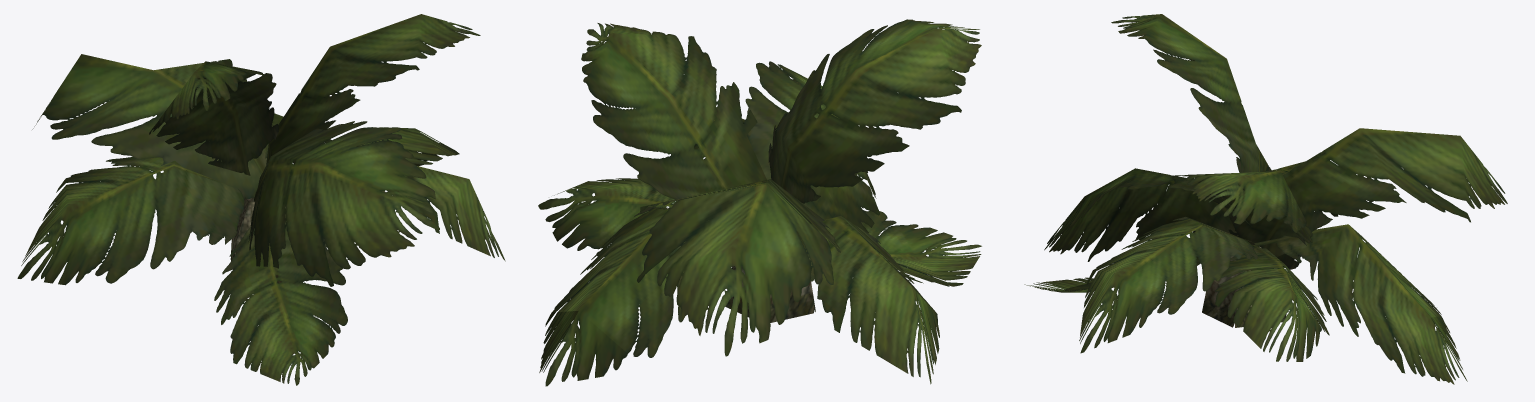
Rendered from 极光世界__晨光平原（东）_神风教分坛_植物_01.FBX.
3 views of the same model, side by side, from view 1: azimuth 30°, elevation 25°; view 2: azimuth 150°, elevation 25°; view 3: azimuth 270°, elevation 25° (orthographic). The views are drawn at different scales.
Visible parts, largest first — view 1: DrawCall_0036, DrawCall_0035; view 2: DrawCall_0036, DrawCall_0035; view 3: DrawCall_0036, DrawCall_0035.
Part boxes in pixels (bbox=[...]): DrawCall_0036: bbox=[17, 14, 505, 385]; DrawCall_0035: bbox=[230, 197, 285, 286]; DrawCall_0036: bbox=[538, 19, 981, 386]; DrawCall_0035: bbox=[725, 266, 815, 322]; DrawCall_0036: bbox=[1024, 14, 1507, 384]; DrawCall_0035: bbox=[1202, 246, 1286, 327].
Bounding box in the file's own units: 11.61 × 7.54 × 12.64.
